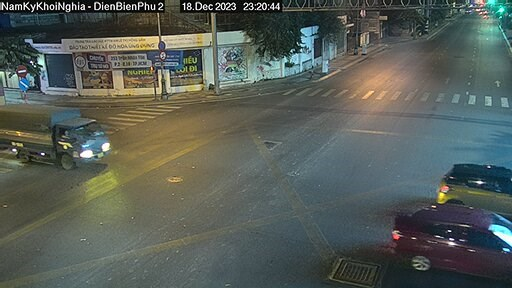car: (359, 187, 510, 274), (427, 145, 512, 210)
truck: (4, 93, 120, 186)
